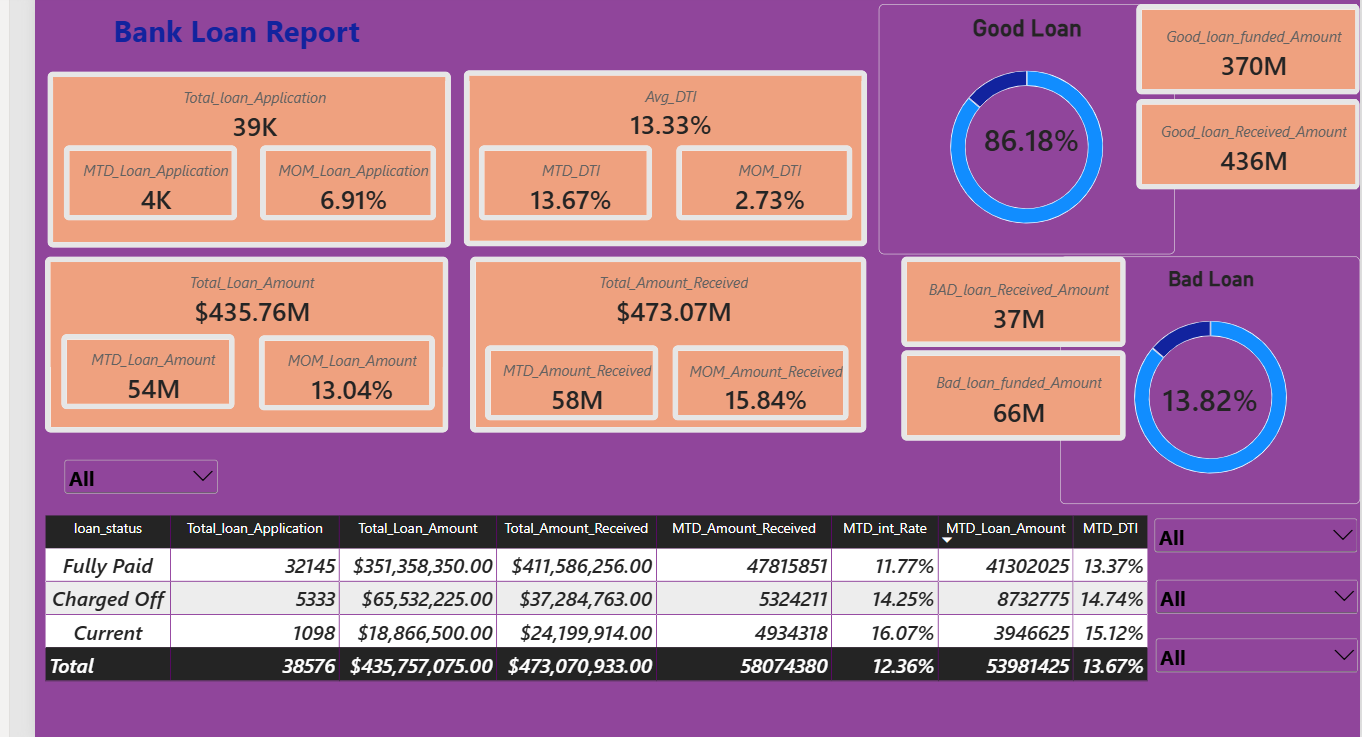

The page's visual inventory and layout, read from the dashboard file:
{"tool":"powerbi","page":{"name":"Page 1","canvas":[1920,1080],"ordinal":0},"visuals":[{"type":"cardVisual","title":"Total_Application","fields":{"Data":["bank_loan_database financial_loan.Total_loan_Application"]},"box":[17.7,112.7,584.1,255.1],"z":0},{"type":"cardVisual","fields":{"Data":["bank_loan_database financial_loan.MTD_Loan_Application"]},"box":[41.8,218.1,251.4,109],"z":1000},{"type":"cardVisual","fields":{"Data":["bank_loan_database financial_loan.MOM_Loan_Application"]},"box":[326.4,218.1,255.1,109],"z":2000},{"type":"cardVisual","title":"Total_Application","fields":{"Data":["bank_loan_database financial_loan.Avg_DTI"]},"box":[621.4,111.3,584.1,255.1],"z":3000},{"type":"cardVisual","fields":{"Data":["bank_loan_database financial_loan.MTD_DTI"]},"box":[641.7,218.5,251.4,109],"z":4000},{"type":"cardVisual","fields":{"Data":["bank_loan_database financial_loan.MOM_DTI"]},"box":[928.2,218.5,255.1,109],"z":5000},{"type":"cardVisual","title":"Total_Application","fields":{"Data":["bank_loan_database financial_loan.Total_Loan_Amount"]},"box":[14.8,380.7,584.1,255.1],"z":6000},{"type":"cardVisual","fields":{"Data":["bank_loan_database financial_loan.MTD_Loan_Amount"]},"box":[38.8,491.6,251.4,109],"z":7000},{"type":"cardVisual","fields":{"Data":["bank_loan_database financial_loan.MOM_Loan_Amount"]},"box":[323.5,493.5,255.1,109],"z":8000},{"type":"cardVisual","title":"Total_Application","fields":{"Data":["bank_loan_database financial_loan.Total_Amount_Received"]},"box":[630.3,380.7,574.8,255.1],"z":9000},{"type":"cardVisual","fields":{"Data":["bank_loan_database financial_loan.MTD_Amount_Received"]},"box":[650.6,508.3,251.4,109],"z":10000},{"type":"cardVisual","fields":{"Data":["bank_loan_database financial_loan.MOM_Amount_Received"]},"box":[922.3,508.3,255.1,109],"z":11000},{"type":"donutChart","title":"Good Loan","fields":{"Category":["bank_loan_database financial_loan.Good Vs Bad Loan"],"Y":["bank_loan_database financial_loan.Total_loan_Application"]},"box":[1222.1,14.8,428.8,362.3],"z":12000},{"type":"cardVisual","fields":{"Data":["bank_loan_database financial_loan.Good_loan%"]},"box":[1323.7,147.9,240.3,122],"z":13000},{"type":"donutChart","title":"Bad Loan","fields":{"Category":["bank_loan_database financial_loan.Good Vs Bad Loan"],"Y":["bank_loan_database financial_loan.Total_loan_Application"]},"box":[1483.4,380,436.2,358.6],"z":14000},{"type":"cardVisual","fields":{"Data":["bank_loan_database financial_loan.BAD_loan%"]},"box":[1581,524.5,240.3,122],"z":15000},{"type":"cardVisual","fields":{"Data":["bank_loan_database financial_loan.Bad_loan_funded_Amount"]},"box":[1255,515.7,325.3,131.2],"z":16000},{"type":"cardVisual","fields":{"Data":["bank_loan_database financial_loan.Good_loan_funded_Amount"]},"box":[1595.1,14.8,325.3,131.2],"z":17000},{"type":"cardVisual","fields":{"Data":["bank_loan_database financial_loan.Good_loan_Received_Amount"]},"box":[1595.1,151.6,325.3,131.2],"z":18000},{"type":"cardVisual","fields":{"Data":["bank_loan_database financial_loan.BAD_loan_funded_Amount"]},"box":[1255,380.7,325.3,131.2],"z":19000},{"type":"textbox","box":[0,24,584,255],"z":20000},{"type":"tableEx","fields":{"Values":["bank_loan_database financial_loan.loan_status","bank_loan_database financial_loan.Total_loan_Application","bank_loan_database financial_loan.Total_Loan_Amount","bank_loan_database financial_loan.Total_Amount_Received","bank_loan_database financial_loan.MTD_Amount_Received","bank_loan_database financial_loan.MTD_int_Rate","bank_loan_database financial_loan.MTD_Loan_Amount","bank_loan_database financial_loan.MTD_DTI"]},"box":[14.8,754.1,1600.6,277.2],"z":21000},{"type":"slicer","fields":{"Values":["bank_loan_database financial_loan.address_state"]},"box":[1615.4,754.1,303.1,88.7],"z":22000},{"type":"slicer","fields":{"Values":["bank_loan_database financial_loan.purpose"]},"box":[1617.3,842.8,303.1,64.7],"z":23000},{"type":"slicer","fields":{"Values":["bank_loan_database financial_loan.grade"]},"box":[1617.3,927.8,303.1,64.7],"z":24000},{"type":"slicer","fields":{"Values":["Date_table.Month_Number","Date_table.Month"]},"box":[38.8,669.1,231,70.2],"z":25000}]}

Visuals, with their boxes on the page's 1920x1080 design canvas (x1, y1, x2, y2). These are canvas units, not pixel positions in the 1362x737 screenshot, which may show the page scaled, cropped or inside an application window:
"Total_Application" cardVisual: [x1=18, y1=113, x2=602, y2=368]
cardVisual - bank_loan_database financial_loan.MTD_Loan_Application: [x1=42, y1=218, x2=293, y2=327]
cardVisual - bank_loan_database financial_loan.MOM_Loan_Application: [x1=326, y1=218, x2=582, y2=327]
"Total_Application" cardVisual: [x1=621, y1=111, x2=1206, y2=366]
cardVisual - bank_loan_database financial_loan.MTD_DTI: [x1=642, y1=218, x2=893, y2=328]
cardVisual - bank_loan_database financial_loan.MOM_DTI: [x1=928, y1=218, x2=1183, y2=328]
"Total_Application" cardVisual: [x1=15, y1=381, x2=599, y2=636]
cardVisual - bank_loan_database financial_loan.MTD_Loan_Amount: [x1=39, y1=492, x2=290, y2=601]
cardVisual - bank_loan_database financial_loan.MOM_Loan_Amount: [x1=324, y1=494, x2=579, y2=602]
"Total_Application" cardVisual: [x1=630, y1=381, x2=1205, y2=636]
cardVisual - bank_loan_database financial_loan.MTD_Amount_Received: [x1=651, y1=508, x2=902, y2=617]
cardVisual - bank_loan_database financial_loan.MOM_Amount_Received: [x1=922, y1=508, x2=1177, y2=617]
"Good Loan" donutChart: [x1=1222, y1=15, x2=1651, y2=377]
cardVisual - bank_loan_database financial_loan.Good_loan%: [x1=1324, y1=148, x2=1564, y2=270]
"Bad Loan" donutChart: [x1=1483, y1=380, x2=1920, y2=739]
cardVisual - bank_loan_database financial_loan.BAD_loan%: [x1=1581, y1=524, x2=1821, y2=646]
cardVisual - bank_loan_database financial_loan.Bad_loan_funded_Amount: [x1=1255, y1=516, x2=1580, y2=647]
cardVisual - bank_loan_database financial_loan.Good_loan_funded_Amount: [x1=1595, y1=15, x2=1920, y2=146]
cardVisual - bank_loan_database financial_loan.Good_loan_Received_Amount: [x1=1595, y1=152, x2=1920, y2=283]
cardVisual - bank_loan_database financial_loan.BAD_loan_funded_Amount: [x1=1255, y1=381, x2=1580, y2=512]
textbox: [x1=0, y1=24, x2=584, y2=279]
tableEx - bank_loan_database financial_loan.loan_status x bank_loan_database financial_loan.Total_loan_Application: [x1=15, y1=754, x2=1615, y2=1031]
slicer - bank_loan_database financial_loan.address_state: [x1=1615, y1=754, x2=1918, y2=843]
slicer - bank_loan_database financial_loan.purpose: [x1=1617, y1=843, x2=1920, y2=908]
slicer - bank_loan_database financial_loan.grade: [x1=1617, y1=928, x2=1920, y2=992]
slicer - Date_table.Month_Number x Date_table.Month: [x1=39, y1=669, x2=270, y2=739]
